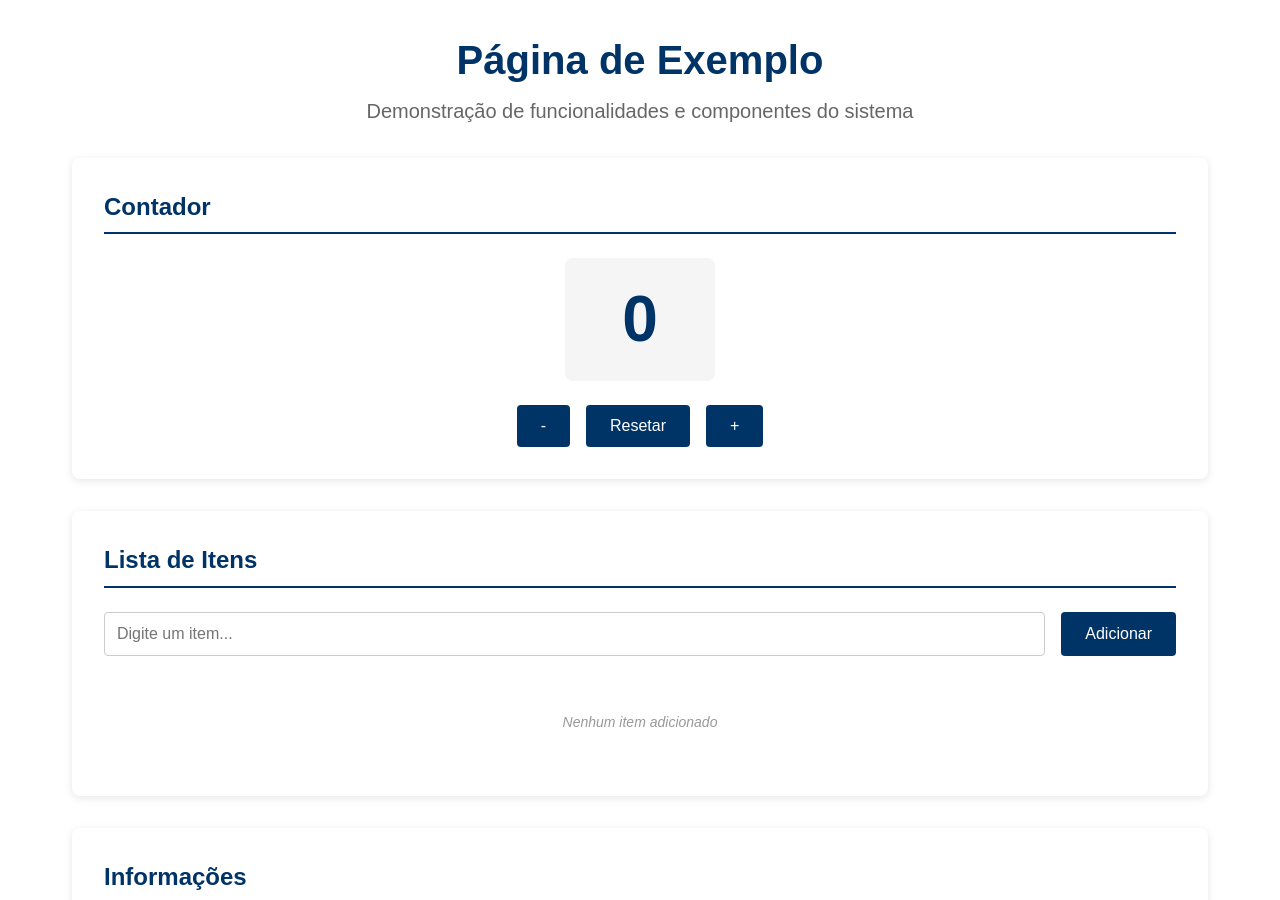
Example › Counter functionality › increments counter when + button is clicked
Click the button with test id "example-btn-increment".
click(735, 426)  # box [706, 405, 763, 447]
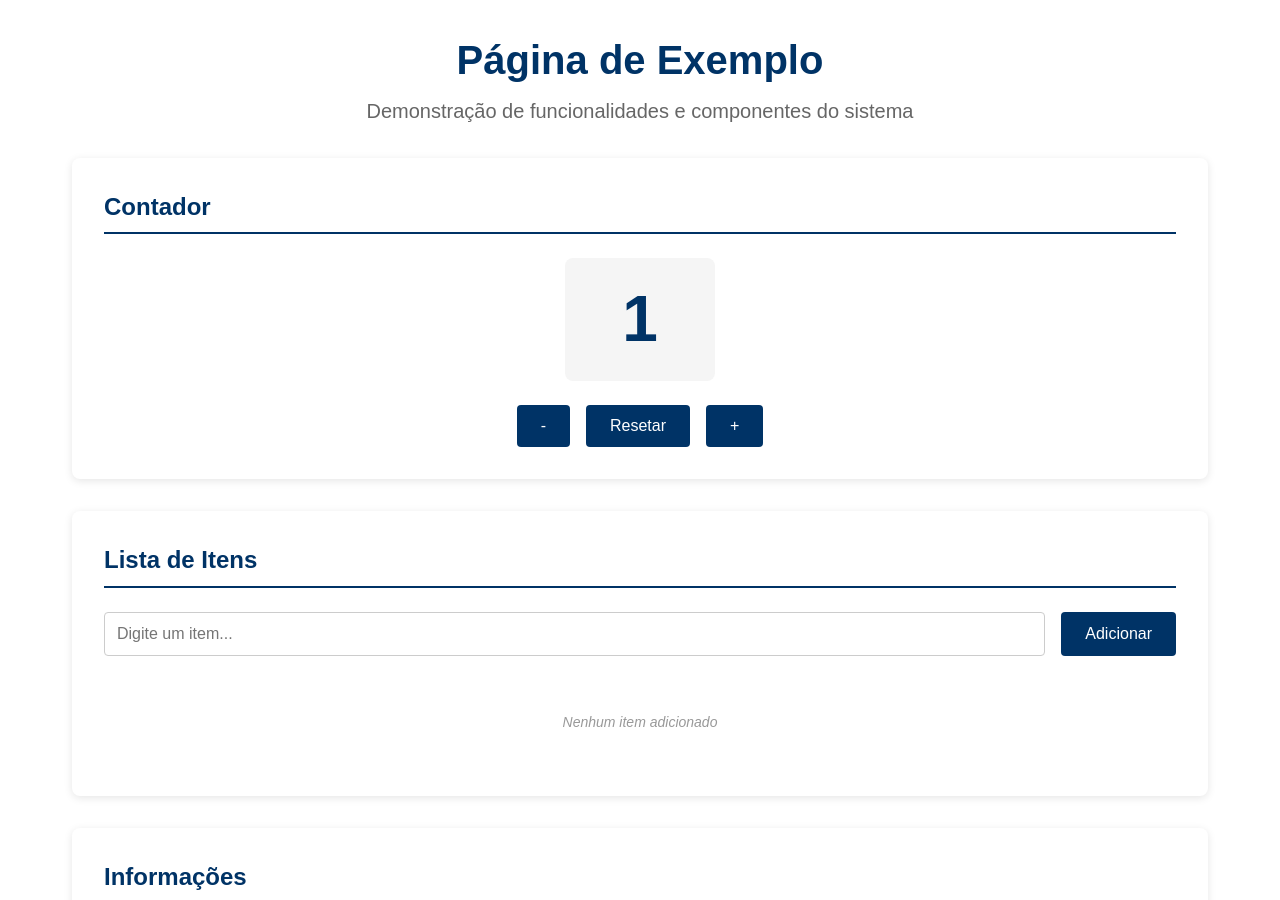
Check: the text with test id "example-counter-display" reads "1", box [622, 283, 658, 355]
Click the button with test id "example-btn-increment".
click(735, 426)  # box [706, 405, 763, 447]
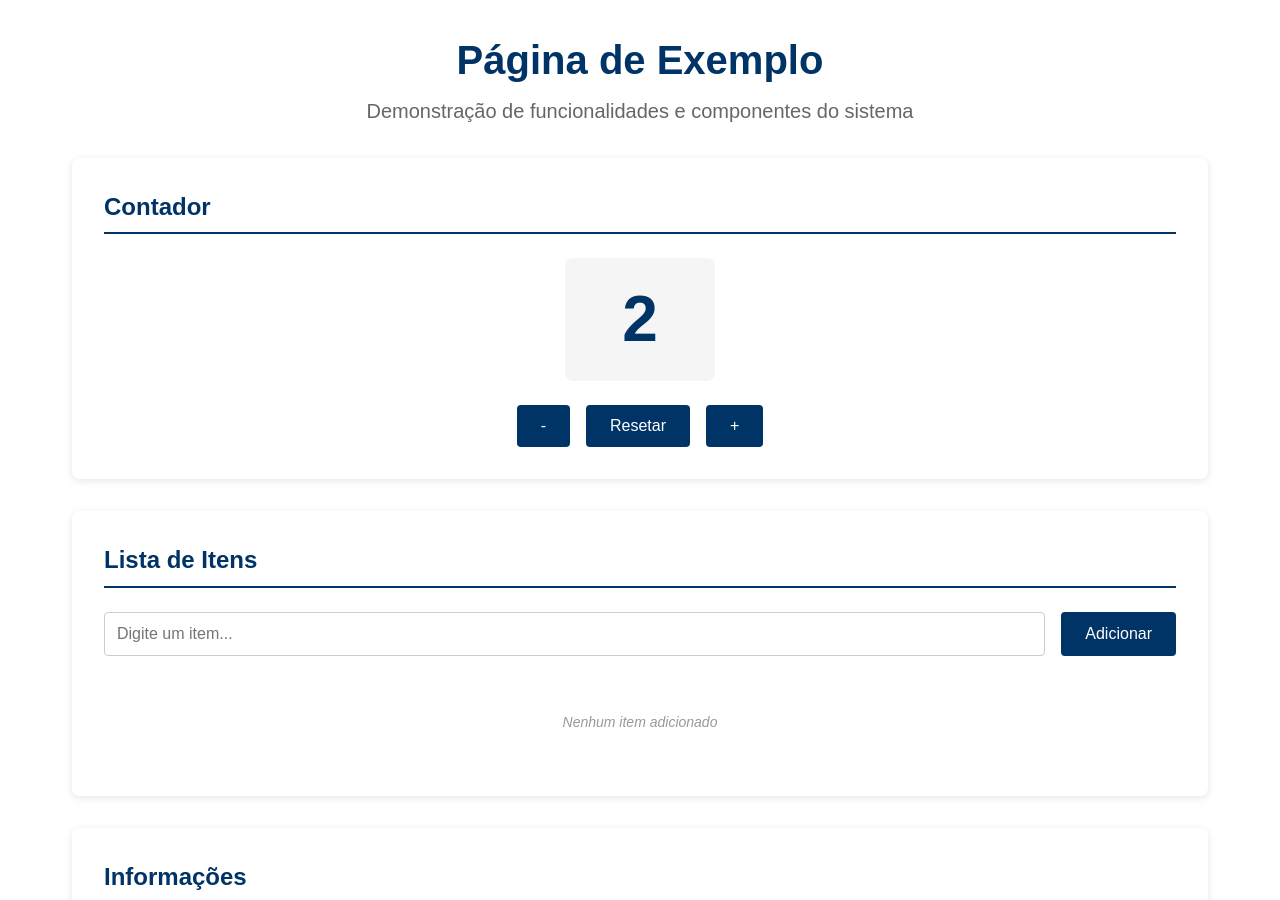
Check: the text with test id "example-counter-display" reads "2", box [622, 283, 658, 355]
